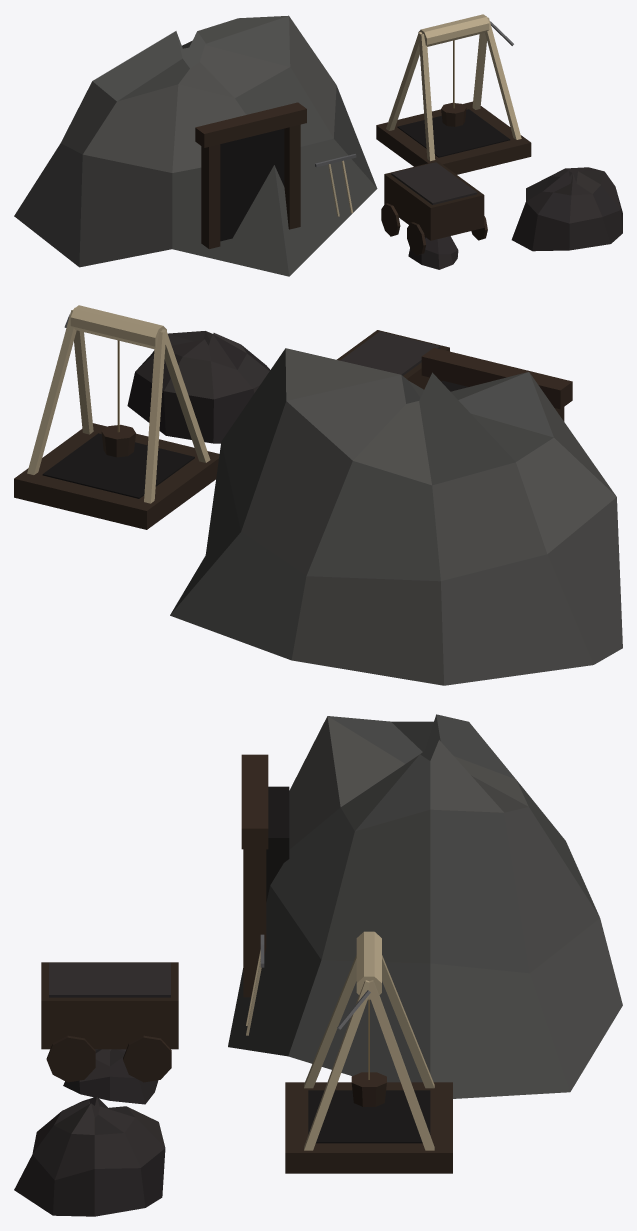
File: walk_veiled_mine.glb
3 views of the same model, one above another, from view 1: azimuth 30°, elevation 25°; view 2: azimuth 150°, elevation 25°; view 3: azimuth 270°, elevation 25° (orthographic). The views are drawn at different scales.
Visible parts, largest first — view 1: walk_veiled_mine; view 2: walk_veiled_mine; view 3: walk_veiled_mine.
Boxes of the visible parts, x1,y1,x2,y2 form: walk_veiled_mine: (14,14,622,276); walk_veiled_mine: (14,305,622,685); walk_veiled_mine: (14,714,622,1216).
Size of what is drawn, in the model's own units: 10.55 by 4.37 by 7.99.
2 materials, 2 textured.
